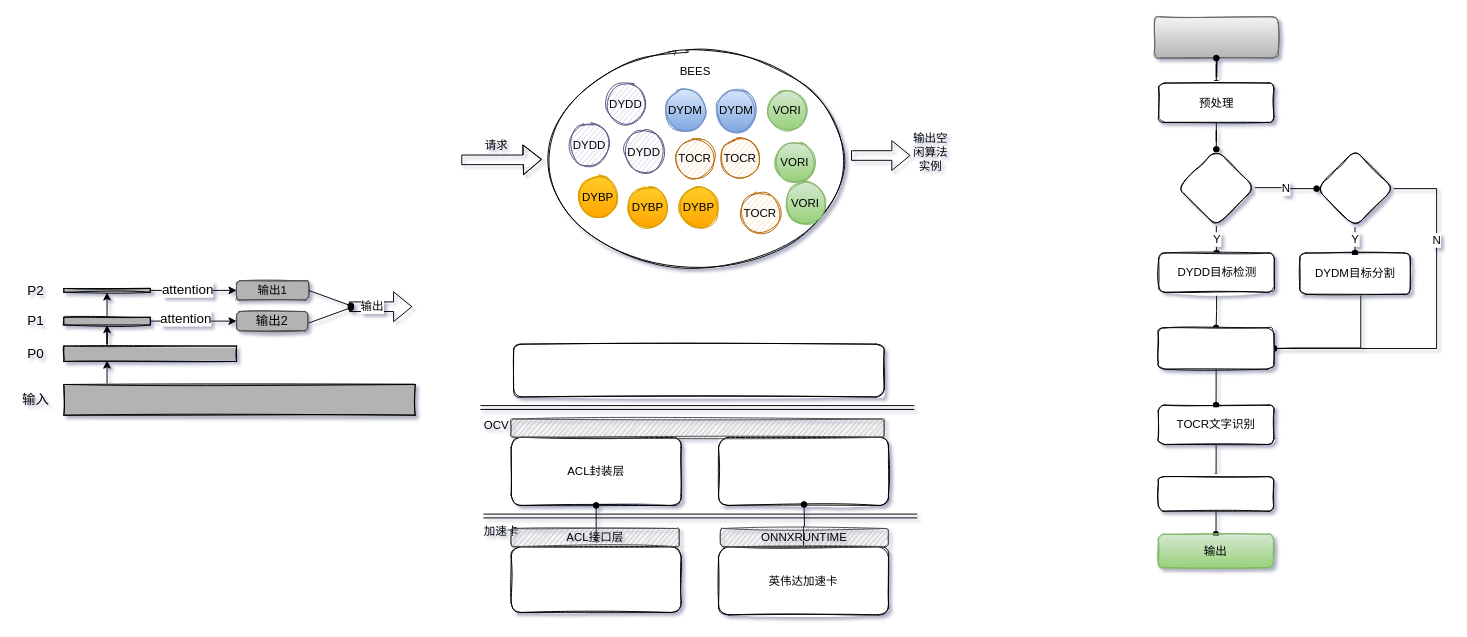
This 1467x637 diagram has some shape labels left out. Each missing label, with the centre of its shape:
GOLANG算法应用层: pixel 698 370
ONNXRUNTIME封装层: pixel 803 470
TEMP文本结构化: pixel 1215 493
VORI方向识别: pixel 1215 348
华为Atlas加速卡: pixel 595 579
是否需要分割目标: pixel 1354 188
是否需要检测目标: pixel 1216 187
统一算法接口层: pixel 697 427
输入图片: pixel 1215 37
这是经过文字行检测算法后裁剪出来的一行文字: pixel 239 399
